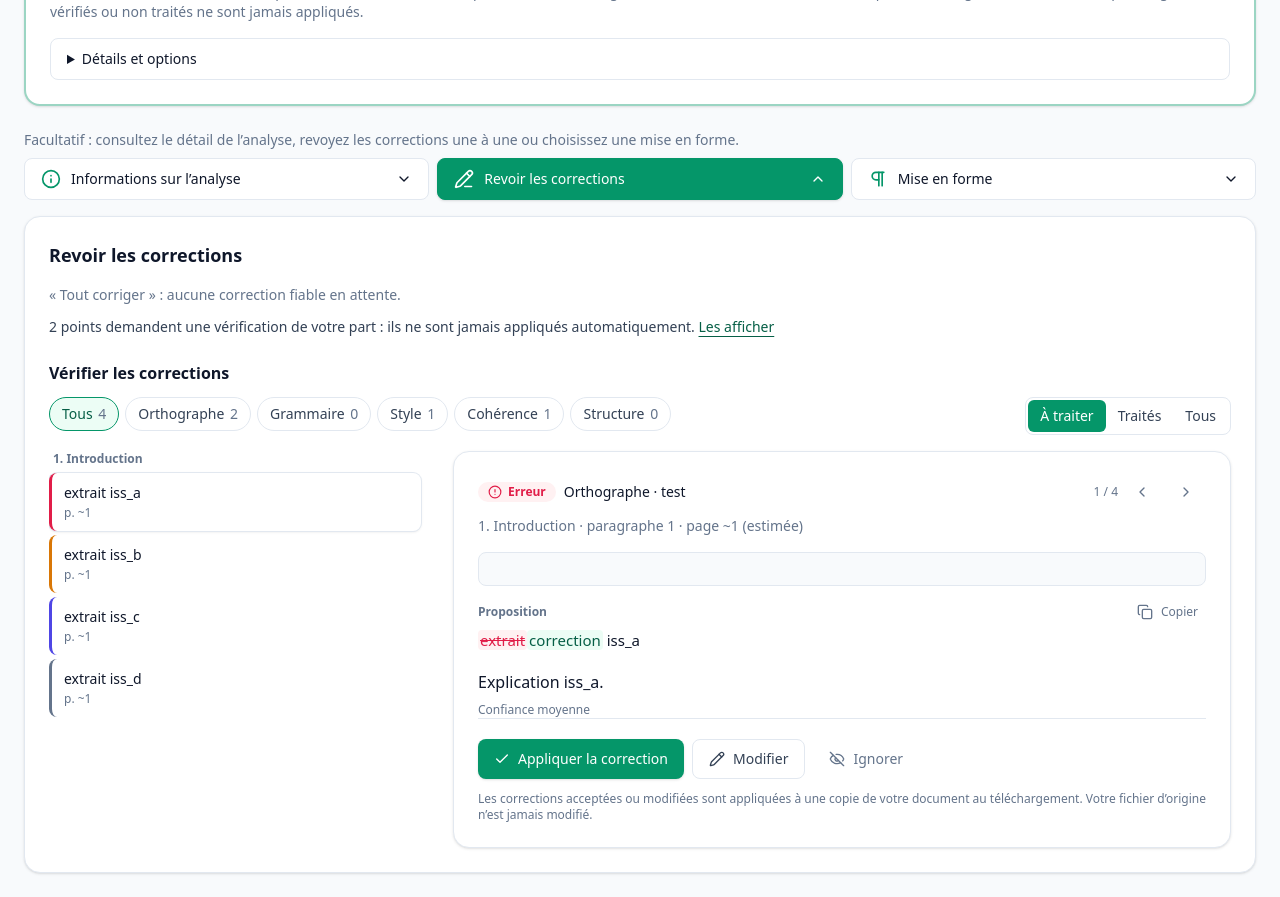
Scenario: Compteur « points traités » après une décision › relecture de l’analyse refusée après le PATCH (429) : le compteur suit quand même la décision
(page scrolled)
Click the button "Ignorer" at (866, 759), box [814,739,919,779]
(page scrolled)
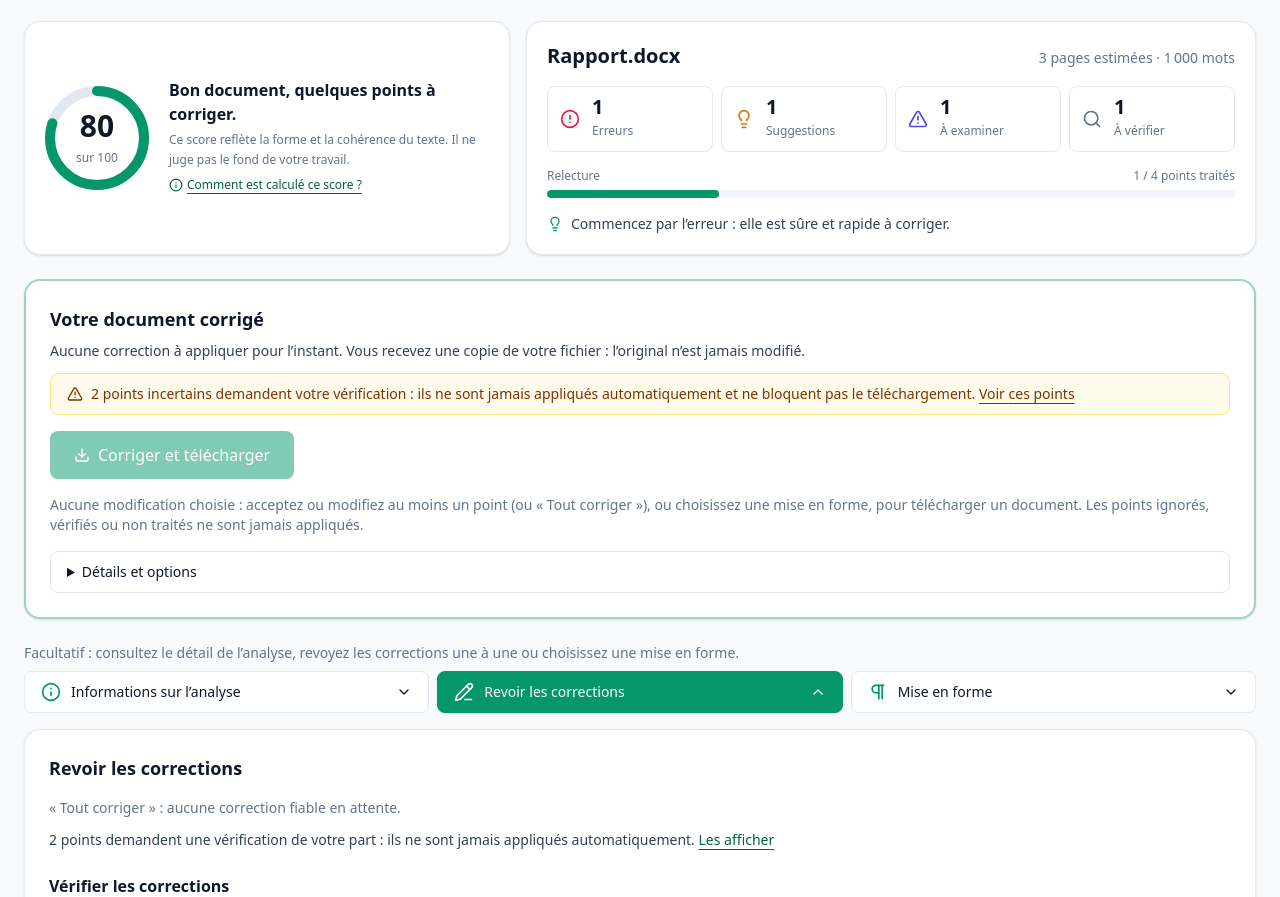
Now the text "1 / 4 points traités" is shown, box [1133,168,1235,184]
